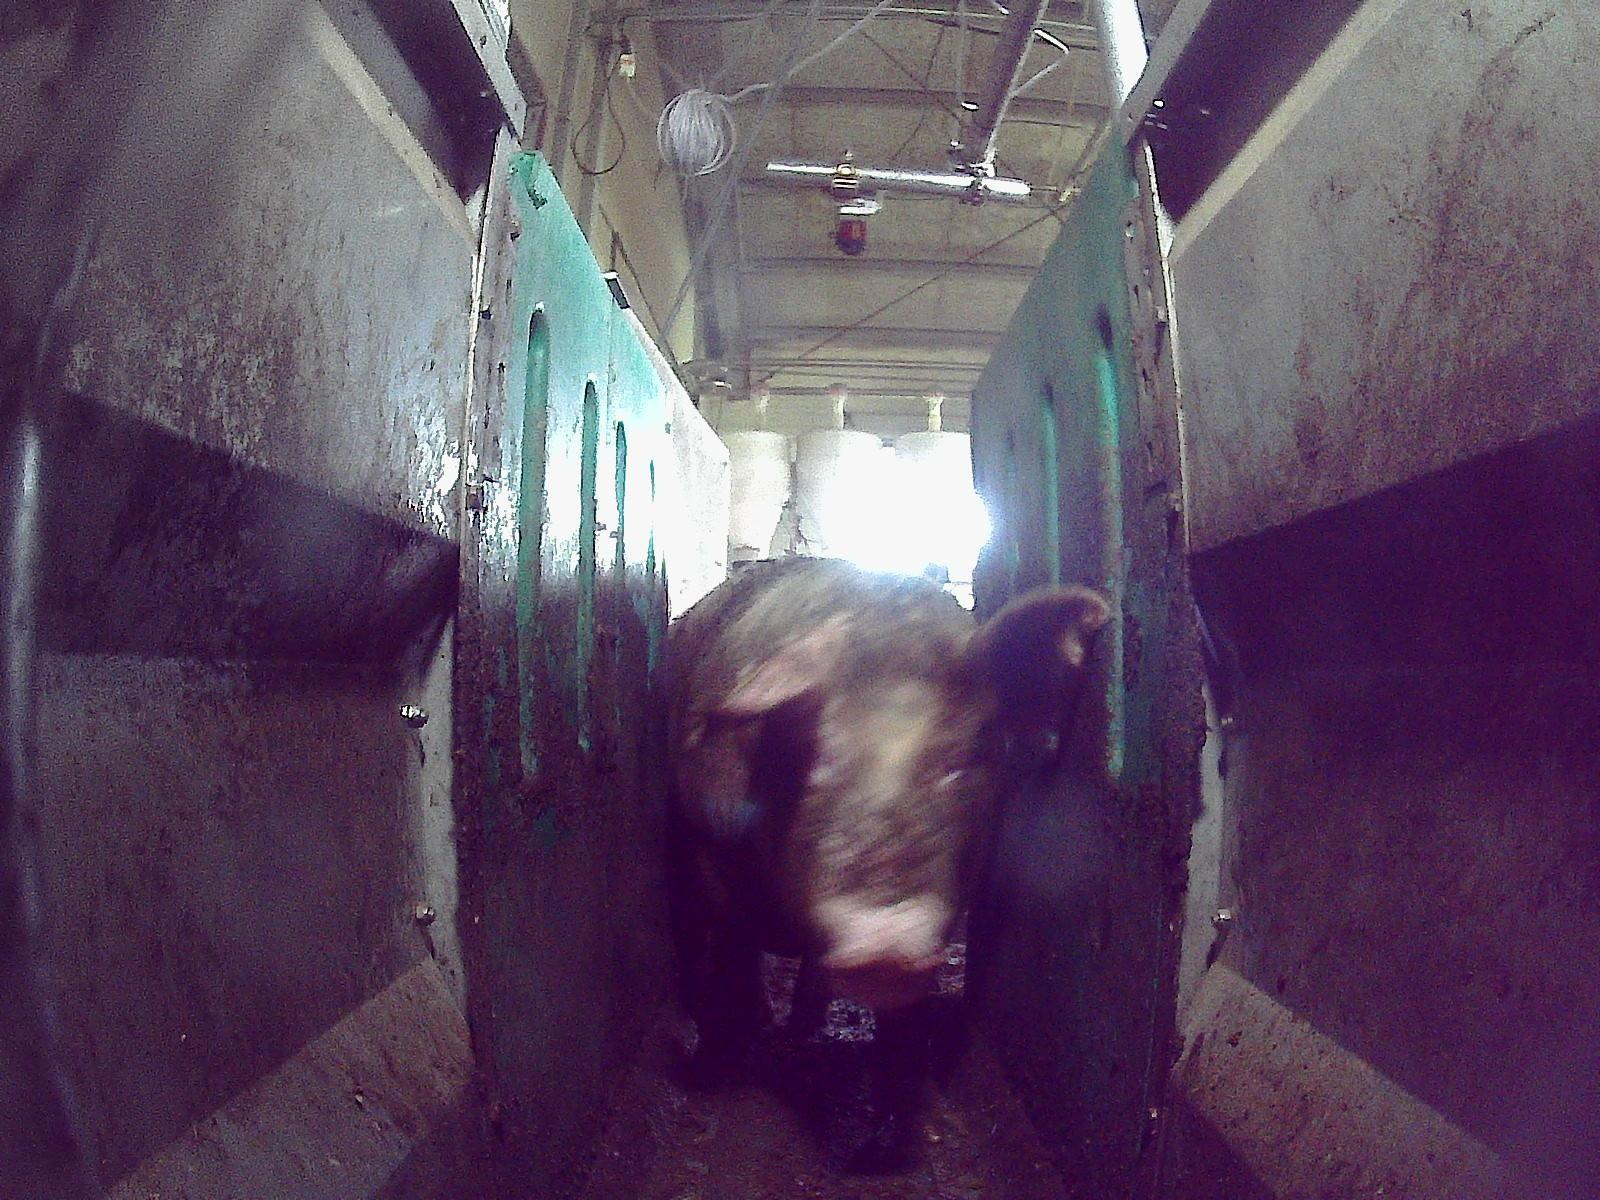Face: (758, 614, 996, 1006)
